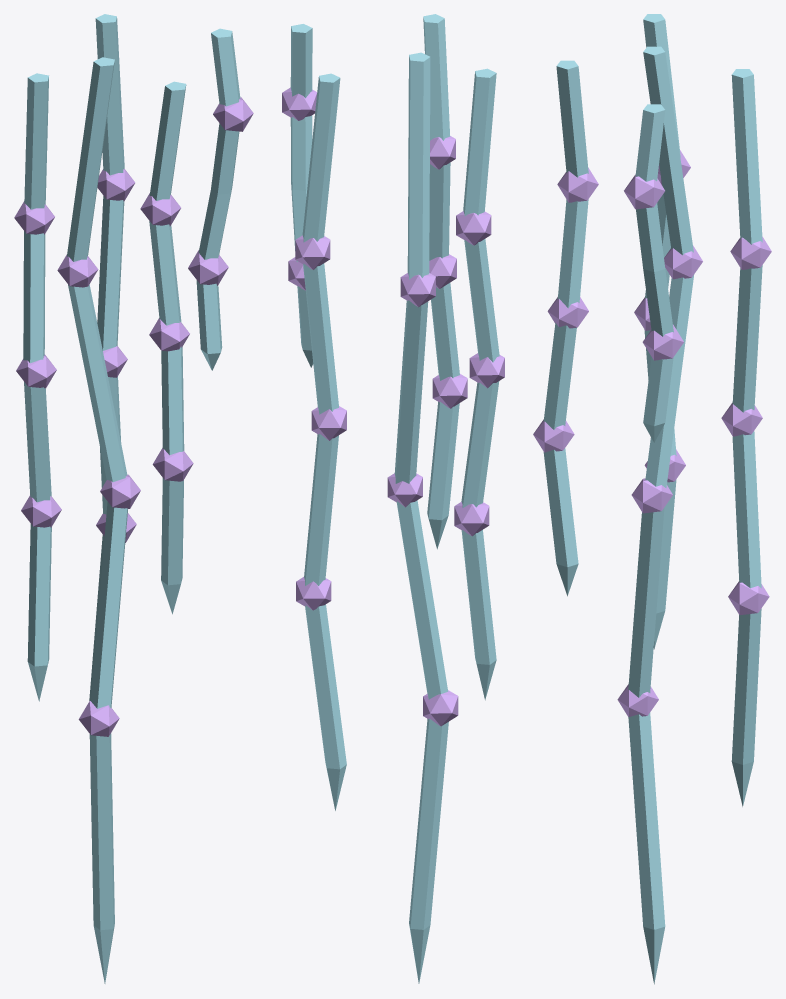
The model's file is GlowWorm2.fbx.
3 views of the same model, side by side, from view 1: azimuth 30°, elevation 25°; view 2: azimuth 150°, elevation 25°; view 3: azimuth 270°, elevation 25° (orthographic).
Visible parts, largest first — view 1: GlowwormsWithOrbs; view 2: GlowwormsWithOrbs; view 3: GlowwormsWithOrbs.
Boxes of the visible parts, <box> form: GlowwormsWithOrbs: <box>14,14,253,983</box>; GlowwormsWithOrbs: <box>282,14,504,983</box>; GlowwormsWithOrbs: <box>533,14,771,984</box>.
Bounding box in the file's own units: 9.25 × 36.48 × 8.46.
